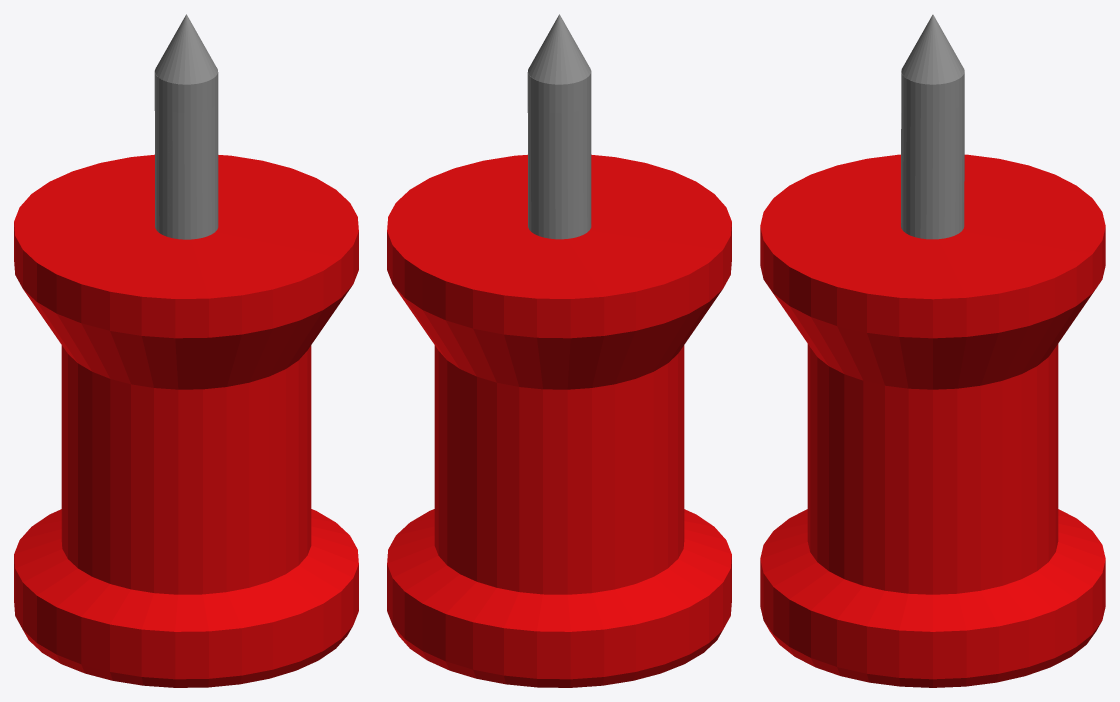
File: punaiseRood.glb
3 views of the same model, side by side, from view 1: azimuth 30°, elevation 25°; view 2: azimuth 150°, elevation 25°; view 3: azimuth 270°, elevation 25° (orthographic).
Parts seen in each view (by area): view 1: Cylinder; view 2: Cylinder; view 3: Cylinder.
Part boxes in pixels (bbox=[...]): Cylinder: bbox=[14, 14, 358, 687]; Cylinder: bbox=[387, 14, 731, 687]; Cylinder: bbox=[760, 14, 1105, 687].
Bounding box in the file's own units: 2 × 3.86 × 2.
